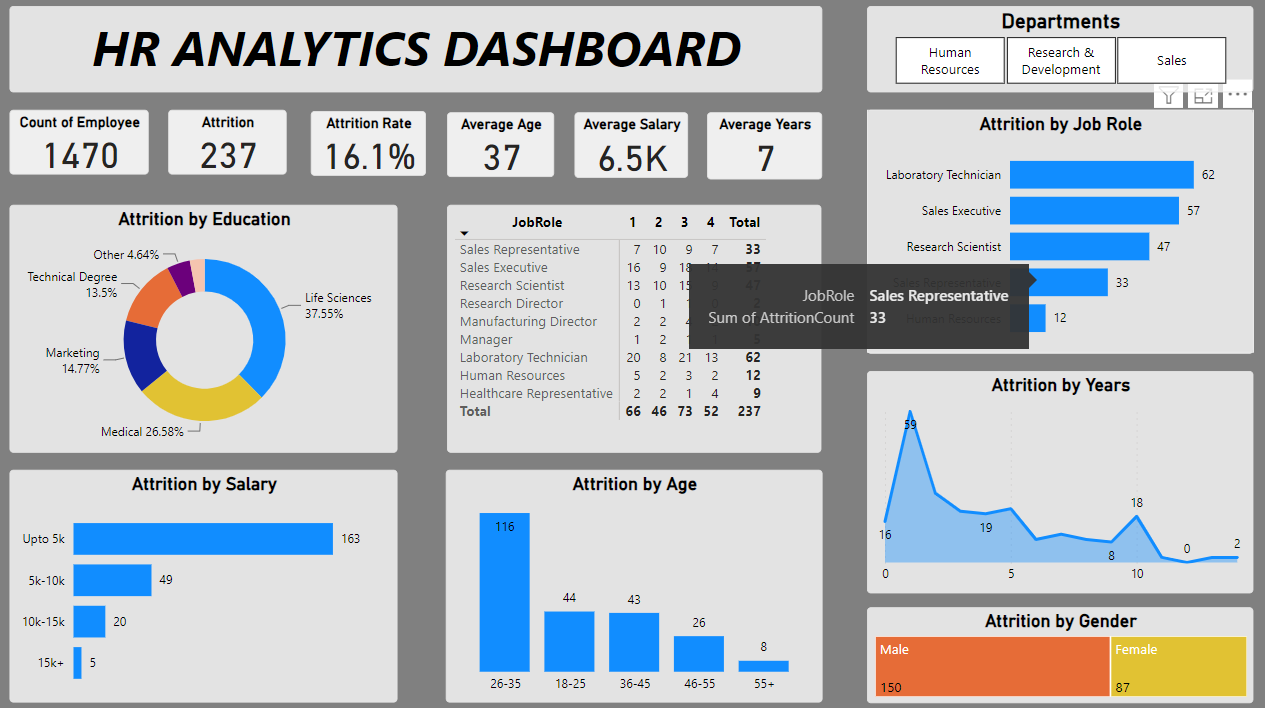

Layout of this report page (visuals, bound fields, positions):
{"tool":"powerbi","page":{"name":"Page 1","canvas":[1280,720],"ordinal":0},"visuals":[{"type":"card","title":"Count of Employee","fields":{"Values":["CountNonNull(HR_Analytics.EmpID)"]},"box":[17,113.8,139.4,64.9],"z":0},{"type":"card","title":"Attrition","fields":{"Values":["Sum(HR_Analytics.AttritionCount)"]},"box":[176.6,113.8,118.1,64.9],"z":1000},{"type":"card","title":"Attrition Rate","fields":{"Values":["HR_Analytics.AttritionRate"]},"box":[319.1,114.9,114.9,64.9],"z":2000},{"type":"card","title":"Average Age ","fields":{"Values":["Avg(HR_Analytics.Age)"]},"box":[455.3,116,107.4,64.9],"z":3000},{"type":"card","title":"Average Salary","fields":{"Values":["Avg(HR_Analytics.MonthlyIncome)"]},"box":[583,116,113.8,66],"z":4000},{"type":"card","title":"Average Years ","fields":{"Values":["Avg(HR_Analytics.YearsAtCompany)"]},"box":[714.9,116,114.9,67],"z":5000},{"type":"donutChart","title":"Attrition by Education","fields":{"Category":["HR_Analytics.EducationField"],"Y":["Sum(HR_Analytics.AttritionCount)"]},"box":[17,208.5,388.3,247.9],"z":6000},{"type":"columnChart","title":"Attrition by Age","fields":{"Category":["HR_Analytics.AgeGroup"],"Y":["Sum(HR_Analytics.AttritionCount)"]},"box":[453.2,473.4,376.6,233],"z":7000},{"type":"pivotTable","fields":{"Rows":["HR_Analytics.JobRole"],"Columns":["HR_Analytics.JobSatisfaction"],"Values":["Sum(HR_Analytics.AttritionCount)"]},"box":[455.3,208.5,374.5,247.9],"z":8000},{"type":"barChart","title":"Attrition by Salary","fields":{"Category":["HR_Analytics.SalarySlab"],"Y":["Sum(HR_Analytics.AttritionCount)"]},"box":[17,473.4,388.3,233],"z":9000},{"type":"barChart","title":"Attrition by Job Role","fields":{"Category":["HR_Analytics.JobRole"],"Y":["Sum(HR_Analytics.AttritionCount)"]},"box":[875.5,113.8,386.2,243.6],"z":10000},{"type":"areaChart","title":"Attrition by Years","fields":{"Category":["HR_Analytics.YearsAtCompany"],"Y":["Sum(HR_Analytics.AttritionCount)"]},"box":[875,375,386.2,222.5],"z":11000},{"type":"treemap","title":"Attrition by Gender","fields":{"Group":["HR_Analytics.Gender"],"Values":["Sum(HR_Analytics.AttritionCount)"]},"box":[875.5,610.6,386.2,95.7],"z":12000},{"type":"slicer","title":"Departments","fields":{"Values":["HR_Analytics.Department"]},"box":[875.5,9.6,386.2,86.2],"z":13000},{"type":"textbox","box":[17,9.6,812.8,86.2],"z":14000}]}

Visuals, with their boxes in screenshot pixels (x1, y1, x2, y2), scaled from the page's 1280x720 canvas onto the 1265x708 screenshot:
"Count of Employee" card: box(17, 112, 155, 176)
"Attrition" card: box(175, 112, 291, 176)
"Attrition Rate" card: box(315, 113, 429, 177)
"Average Age " card: box(450, 114, 556, 178)
"Average Salary" card: box(576, 114, 689, 179)
"Average Years " card: box(707, 114, 820, 180)
"Attrition by Education" donutChart: box(17, 205, 401, 449)
"Attrition by Age" columnChart: box(448, 466, 820, 695)
pivotTable - HR_Analytics.JobRole x HR_Analytics.JobSatisfaction: box(450, 205, 820, 449)
"Attrition by Salary" barChart: box(17, 466, 401, 695)
"Attrition by Job Role" barChart: box(865, 112, 1247, 351)
"Attrition by Years" areaChart: box(865, 369, 1246, 588)
"Attrition by Gender" treemap: box(865, 600, 1247, 695)
"Departments" slicer: box(865, 9, 1247, 94)
textbox: box(17, 9, 820, 94)
